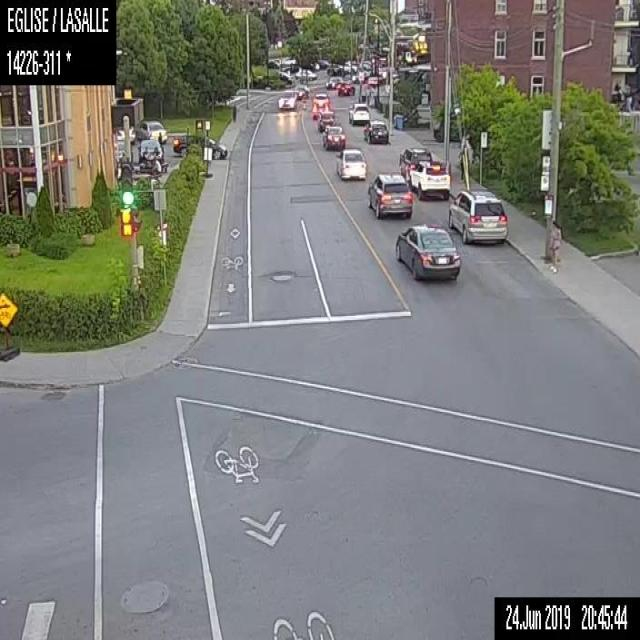pedestrian: (549, 218, 560, 274), (458, 143, 467, 177), (150, 157, 161, 173), (364, 81, 370, 104), (156, 131, 162, 146), (151, 146, 159, 156), (142, 146, 149, 157)
vehicle: (394, 223, 459, 280), (447, 187, 508, 244), (366, 171, 413, 216), (408, 159, 449, 200), (171, 129, 226, 159), (398, 147, 431, 180), (338, 149, 365, 179), (134, 118, 168, 140), (136, 138, 164, 164), (321, 123, 345, 149), (363, 118, 388, 141), (347, 102, 370, 125), (315, 108, 335, 130), (311, 96, 331, 116), (276, 91, 298, 108), (294, 67, 317, 79), (337, 80, 356, 94), (325, 73, 342, 88), (294, 82, 308, 99), (277, 70, 294, 84)
